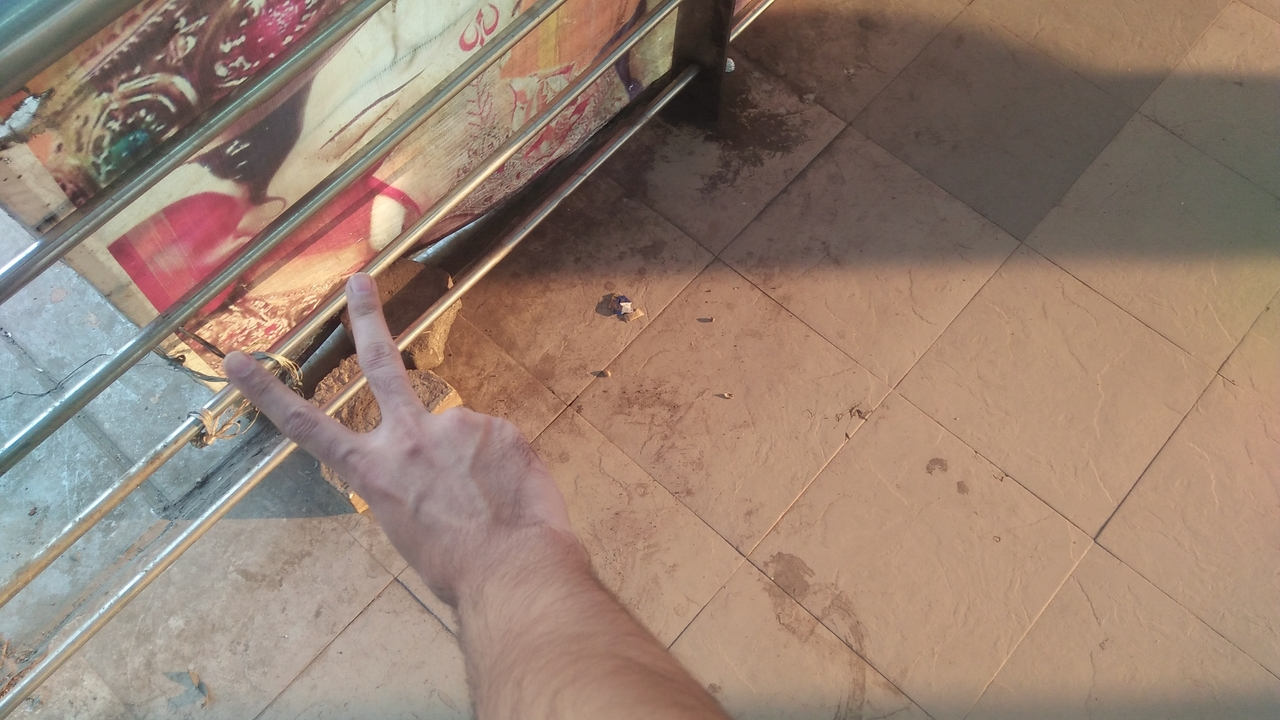fingertip: (210, 348, 264, 394), (334, 268, 382, 310)
